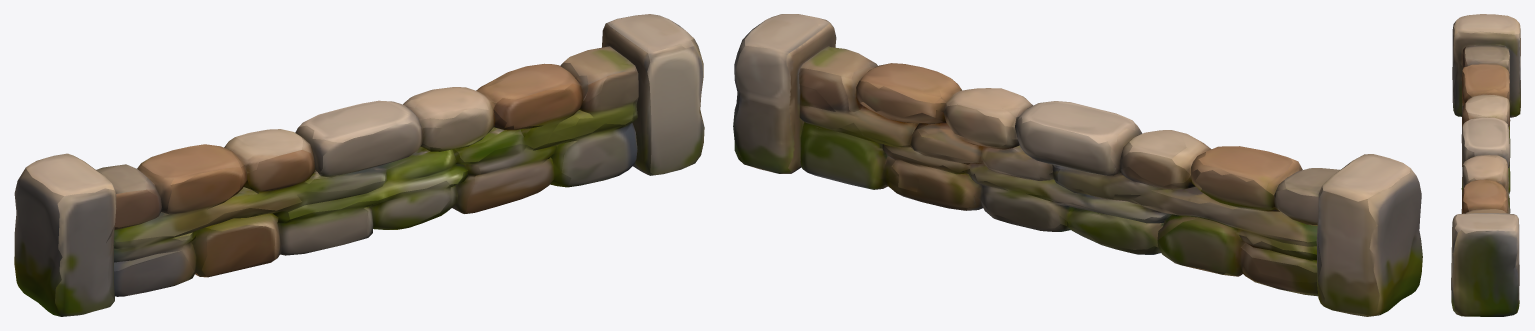
The model's file is ENV-06.glb.
3 renders of one model, left to right at view 1: azimuth 30°, elevation 25°; view 2: azimuth 150°, elevation 25°; view 3: azimuth 270°, elevation 25°, orthographic. The views are drawn at different scales.
Parts seen in each view (by area): view 1: ENV-06; view 2: ENV-06; view 3: ENV-06.
Boxes of the visible parts, x1,y1,x2,y2 form: ENV-06: [14, 14, 704, 316]; ENV-06: [733, 14, 1422, 316]; ENV-06: [1451, 14, 1520, 316].
Size of the model in its own units: 3 by 0.55 by 0.4.
Materials: 1 (1 with a texture image).
